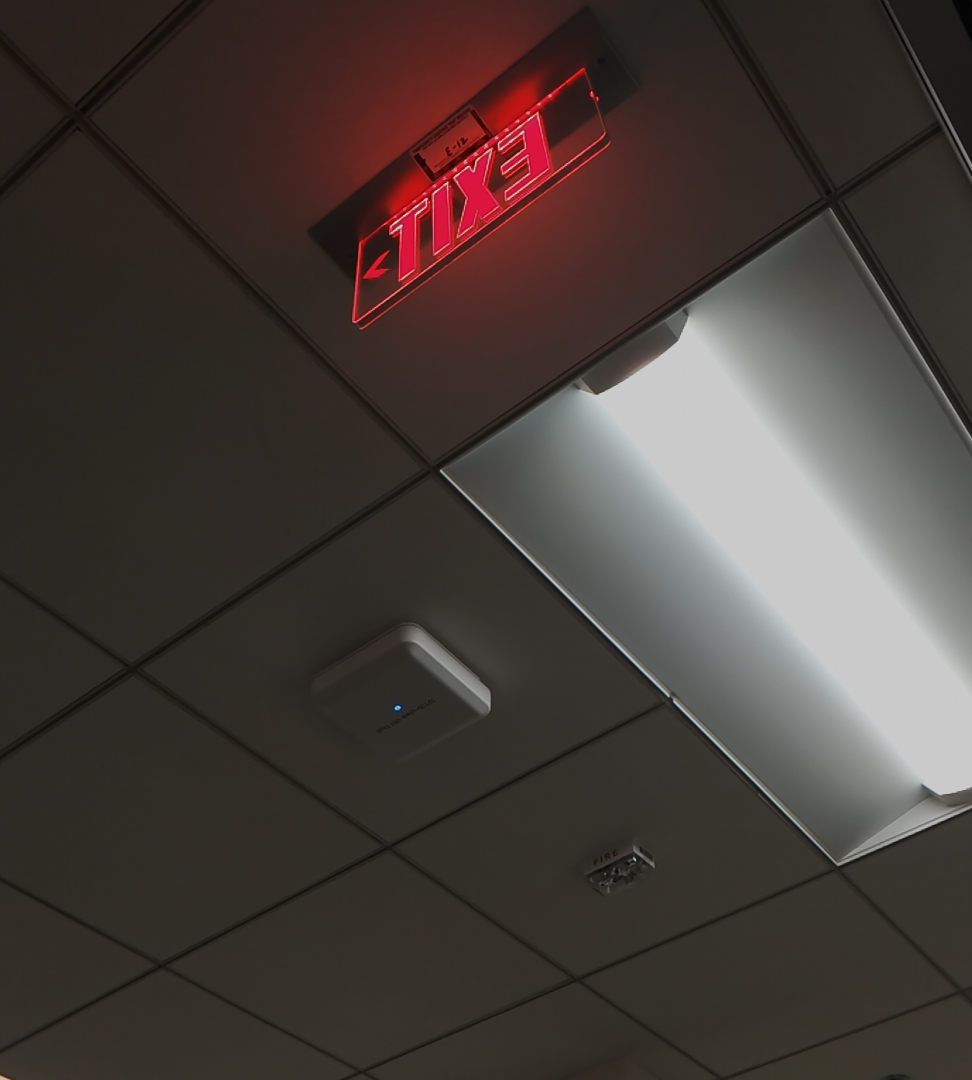emergency_exit: (346, 63, 613, 330)
